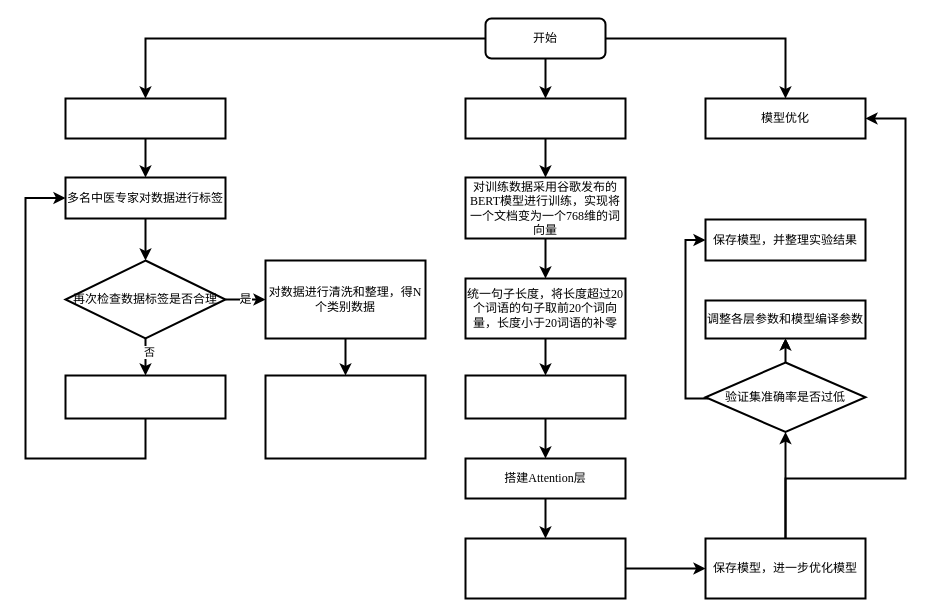
Image size: 931x616. Some labels were removed from this diagram. The shapes that lost their labels are listed below. From the top down, each one's centre as x and y in pixels, then its label:
(145,118): 数据预处理
(545,118): 构建中医文本分类模型
(145,396): 再次标注数据所属标签
(345,416): 选择70%数据作为训练数据，30%数据作为验证数据
(545,396): 构建Bi-LSTM层，作为Attention层的输入
(545,568): 使用merge连接函数Bi-LSTM层和Attention层，构建模型model
